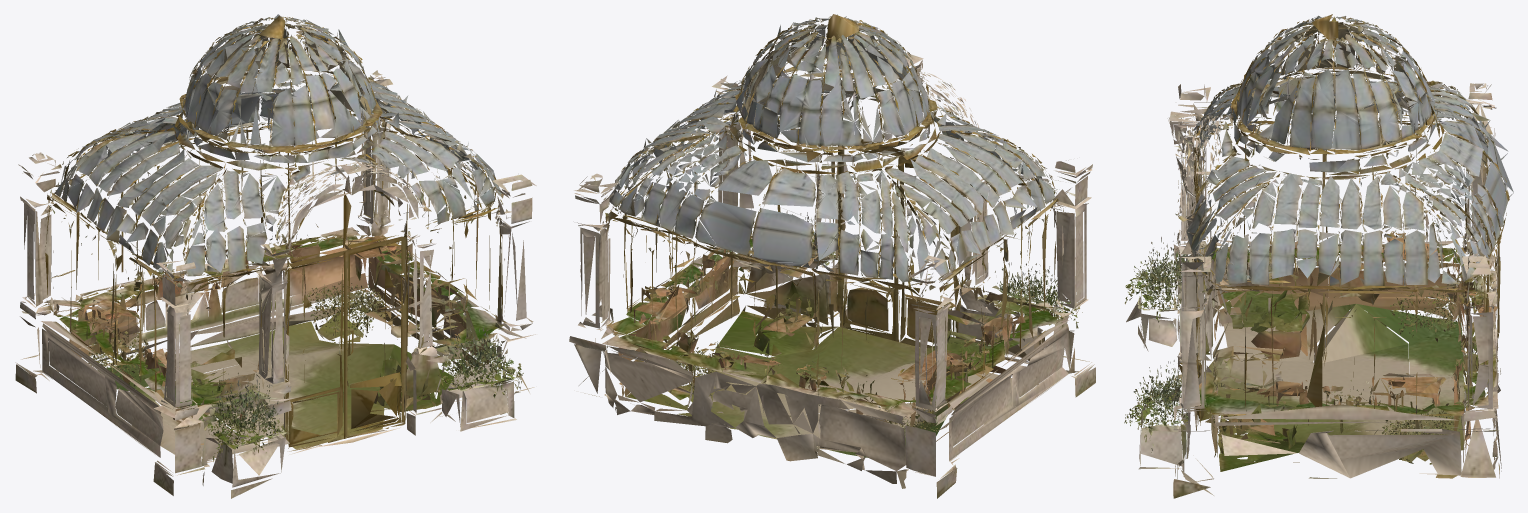
File: invernadero.glb
3 renders of one model, left to right at view 1: azimuth 30°, elevation 25°; view 2: azimuth 150°, elevation 25°; view 3: azimuth 270°, elevation 25°, orthographic. The views are drawn at different scales.
Visible parts, largest first — view 1: Mesh_0; view 2: Mesh_0; view 3: Mesh_0.
Boxes of the visible parts, x1,y1,x2,y2 form: Mesh_0: (15, 14, 536, 498); Mesh_0: (569, 14, 1095, 498); Mesh_0: (1124, 14, 1513, 498).
Bounding box in the file's own units: 1.81 × 1.75 × 1.56.
Materials: 1 (1 with a texture image).
